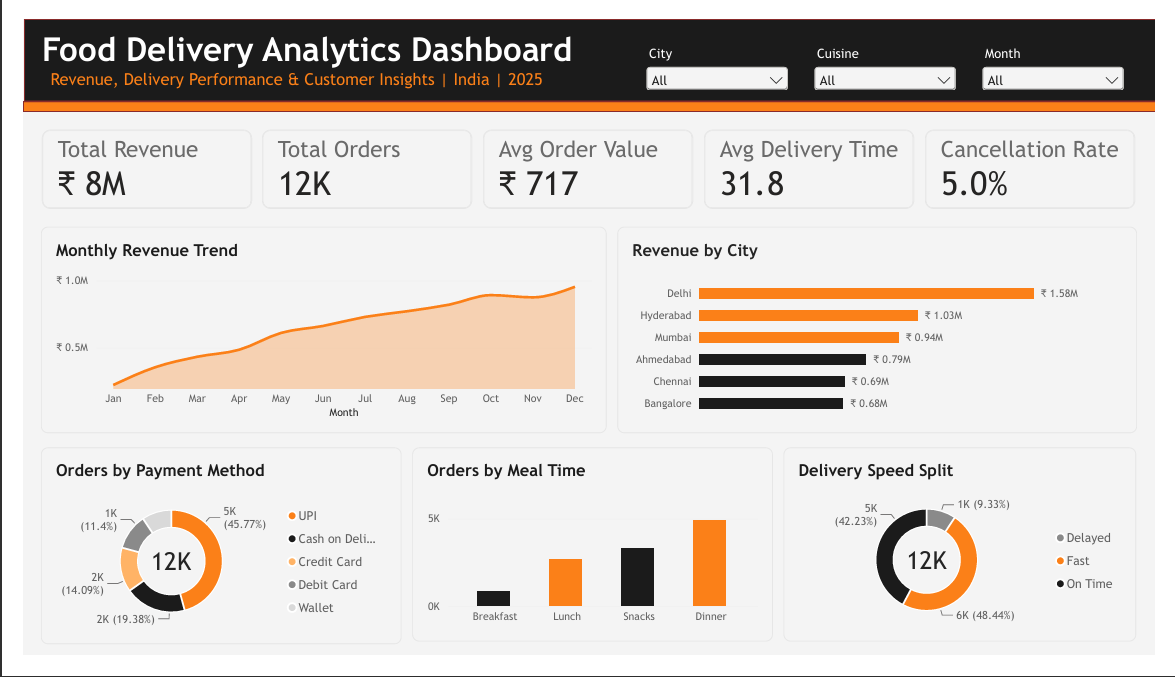

The dashboard page shown, as its layout file describes it:
{"tool":"powerbi","page":{"name":"Executive Overview ","canvas":[1280,720],"ordinal":0},"visuals":[{"type":"shape","box":[1,0,1919,93.4],"z":0},{"type":"textbox","box":[21.1,12.1,614.6,63.3],"z":1000},{"type":"textbox","box":[31.4,57.1,566.4,33.1],"z":2000},{"type":"shape","box":[0,92.7,1919,12],"z":3000},{"type":"cardVisual","fields":{"Data":["orders.Total Revenue"]},"box":[20.6,125,238,90],"z":4000},{"type":"cardVisual","fields":{"Data":["orders.Total Orders"]},"box":[270,125,238,90],"z":5000},{"type":"cardVisual","fields":{"Data":["orders.Avg Order Value"]},"box":[520,125,238,90],"z":6000},{"type":"cardVisual","fields":{"Data":["orders.Avg Delivery Time"]},"box":[770,125,238,90],"z":7000},{"type":"cardVisual","fields":{"Data":["orders.Cancellation Rate"]},"box":[1020,125,238,90],"z":8000},{"type":"clusteredBarChart","title":"Revenue by City","fields":{"Category":["orders.City"],"Y":["orders.Total Revenue"]},"box":[672,235,588,234],"z":9000},{"type":"areaChart","title":"Monthly Revenue Trend","fields":{"Category":["Calendar.Month"],"Y":["orders.Total Revenue"]},"box":[20,235,640,234],"z":10000},{"type":"donutChart","title":"Orders by Payment Method","fields":{"Category":["orders.Payment_Method"],"Y":["orders.Total Orders"]},"box":[20,485,408,223],"z":11000},{"type":"clusteredColumnChart","title":"Orders by Meal Time","fields":{"Category":["orders.Meal_Time"],"Y":["orders.Total Orders"]},"box":[440,485,408,220],"z":12000},{"type":"donutChart","title":"Delivery Speed Split","fields":{"Series":["orders.Delivery_Speed"],"Y":["orders.Total Orders"]},"box":[860,485,399,220],"z":13000},{"type":"slicer","fields":{"Values":["orders.City"]},"box":[700,30,170,50],"z":14000},{"type":"slicer","fields":{"Values":["orders.Cuisine"]},"box":[890,30,170,50],"z":15000},{"type":"slicer","fields":{"Values":["Calendar.Month"]},"box":[1080,30,170,50],"z":16000}]}

Visuals, with their boxes in screenshot pixels (x1, y1, x2, y2), scaled from the page's 1280x720 canvas onto the 1175x677 screenshot:
shape: rect(1, 0, 1174, 88)
textbox: rect(19, 11, 584, 71)
textbox: rect(29, 54, 549, 85)
shape: rect(0, 87, 1174, 98)
cardVisual - orders.Total Revenue: rect(19, 118, 237, 202)
cardVisual - orders.Total Orders: rect(248, 118, 466, 202)
cardVisual - orders.Avg Order Value: rect(477, 118, 696, 202)
cardVisual - orders.Avg Delivery Time: rect(707, 118, 925, 202)
cardVisual - orders.Cancellation Rate: rect(936, 118, 1155, 202)
"Revenue by City" clusteredBarChart: rect(617, 221, 1157, 441)
"Monthly Revenue Trend" areaChart: rect(18, 221, 606, 441)
"Orders by Payment Method" donutChart: rect(18, 456, 393, 666)
"Orders by Meal Time" clusteredColumnChart: rect(404, 456, 778, 663)
"Delivery Speed Split" donutChart: rect(789, 456, 1156, 663)
slicer - orders.City: rect(643, 28, 799, 75)
slicer - orders.Cuisine: rect(817, 28, 973, 75)
slicer - Calendar.Month: rect(991, 28, 1147, 75)
